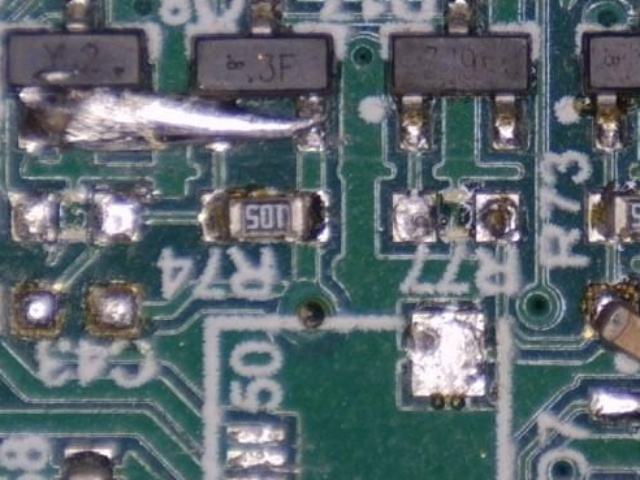pcb_defect: (20, 86, 313, 151), (586, 283, 640, 374)
